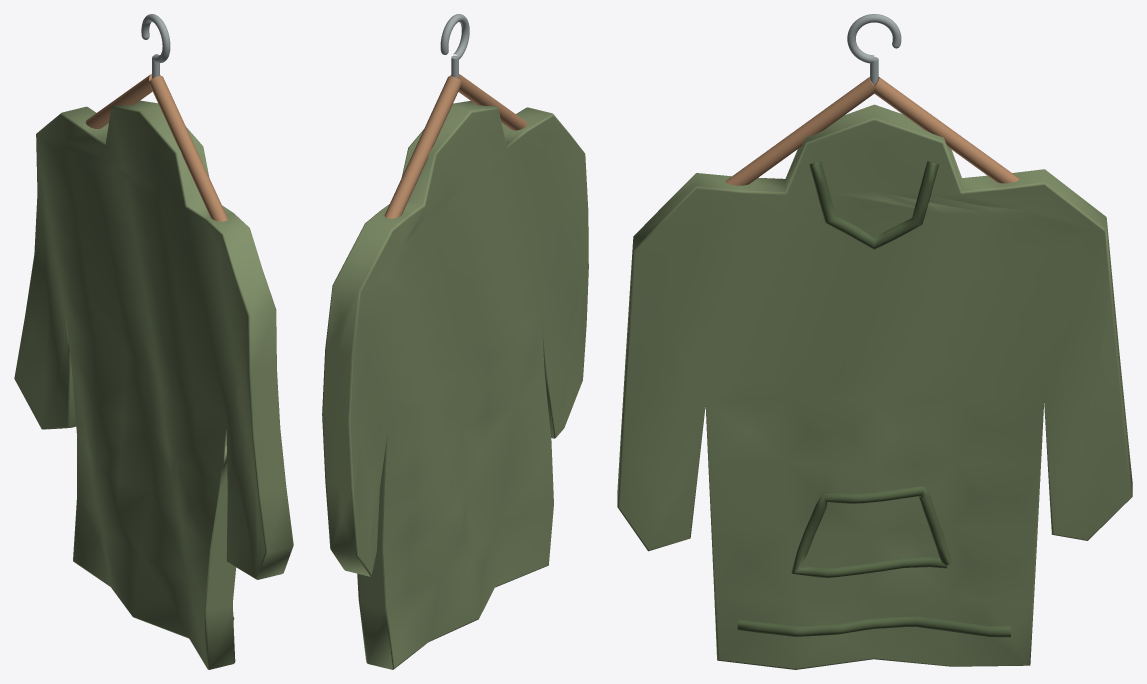
The picture shows the model from 3 angles, left to right: view 1: azimuth 30°, elevation 25°; view 2: azimuth 150°, elevation 25°; view 3: azimuth 270°, elevation 25°; orthographic projection. The views are drawn at different scales.
Parts seen in each view (by area): view 1: garment-cloth, garment-hanger, hanger-hook; view 2: garment-cloth, garment-hanger, hanger-hook; view 3: garment-cloth, garment-seams, garment-hanger, hanger-hook.
Part boxes in pixels (left/top/right/bottom): garment-cloth: left=14, top=100, right=293, bottom=669; garment-hanger: left=85, top=74, right=227, bottom=221; hanger-hook: left=141, top=14, right=170, bottom=78; garment-cloth: left=322, top=101, right=588, bottom=669; garment-hanger: left=384, top=74, right=527, bottom=218; hanger-hook: left=440, top=14, right=469, bottom=78; garment-cloth: left=617, top=104, right=1132, bottom=669; garment-seams: left=737, top=161, right=1010, bottom=637; garment-hanger: left=725, top=77, right=1018, bottom=185; hanger-hook: left=847, top=14, right=901, bottom=84.
Size of the model in its own units: 0.055 by 0.5769 by 0.4189.
